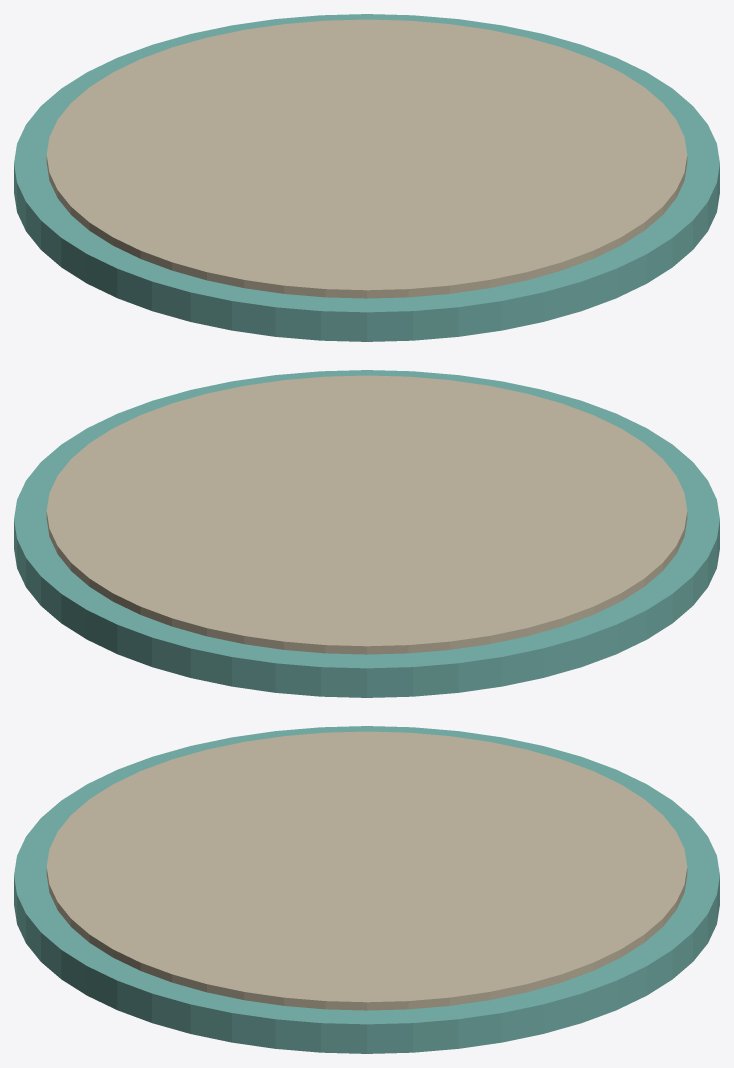
The model's file is space_number_plate.glb.
3 renders of one model, top to bottom at view 1: azimuth 30°, elevation 25°; view 2: azimuth 150°, elevation 25°; view 3: azimuth 270°, elevation 25°, orthographic.
Parts seen in each view (by area): view 1: FixedDetails; view 2: FixedDetails; view 3: FixedDetails.
Boxes of the visible parts, bbox=[...] form: FixedDetails: bbox=[14, 14, 719, 341]; FixedDetails: bbox=[14, 370, 719, 697]; FixedDetails: bbox=[14, 726, 719, 1053].
Size of the model in its own units: 0.54 by 0.032 by 0.54.
